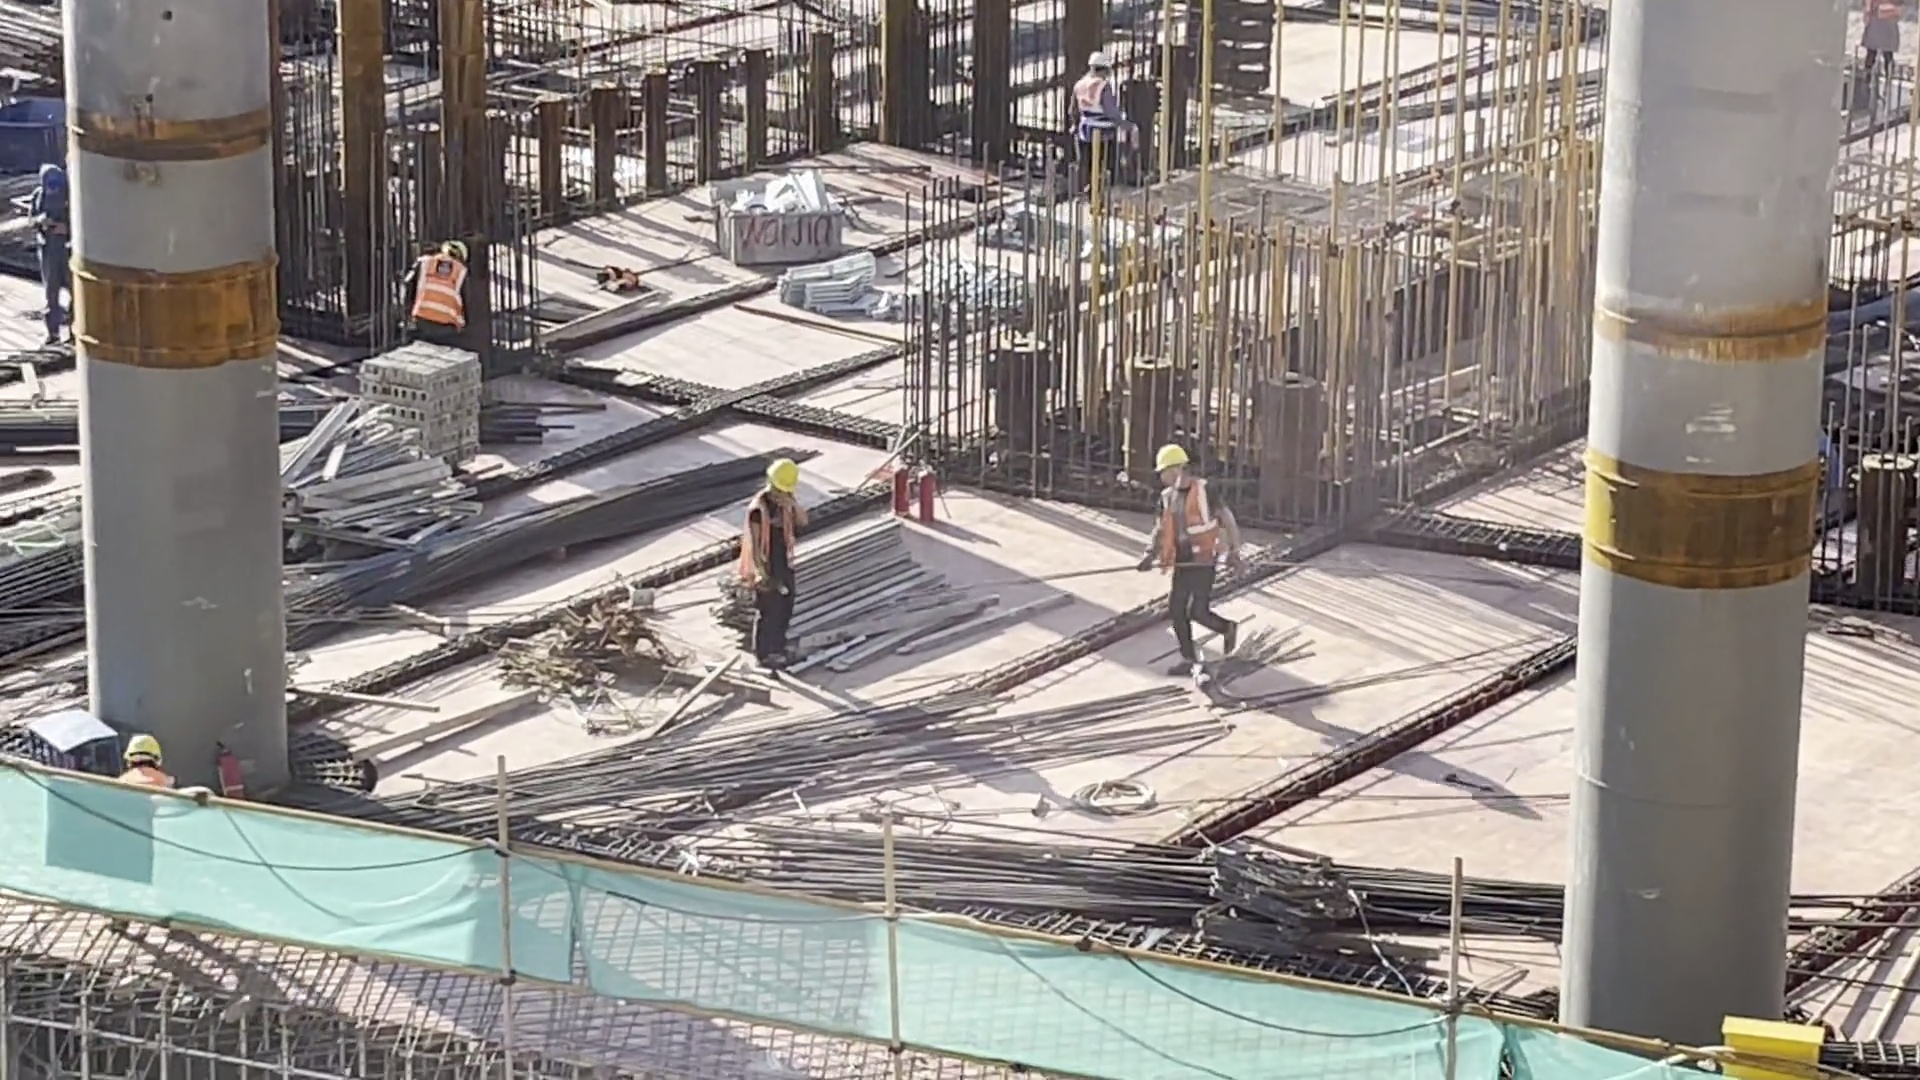helmet: (761, 452, 800, 492), (1153, 439, 1192, 471), (119, 738, 152, 768), (1079, 52, 1120, 72), (33, 163, 60, 193)
person: (1134, 445, 1245, 665), (734, 446, 806, 675), (22, 152, 84, 346), (1064, 45, 1141, 191), (404, 220, 471, 361), (95, 720, 178, 797)
vest: (1142, 482, 1245, 579), (401, 250, 479, 335), (737, 490, 797, 586), (1070, 75, 1119, 137)
